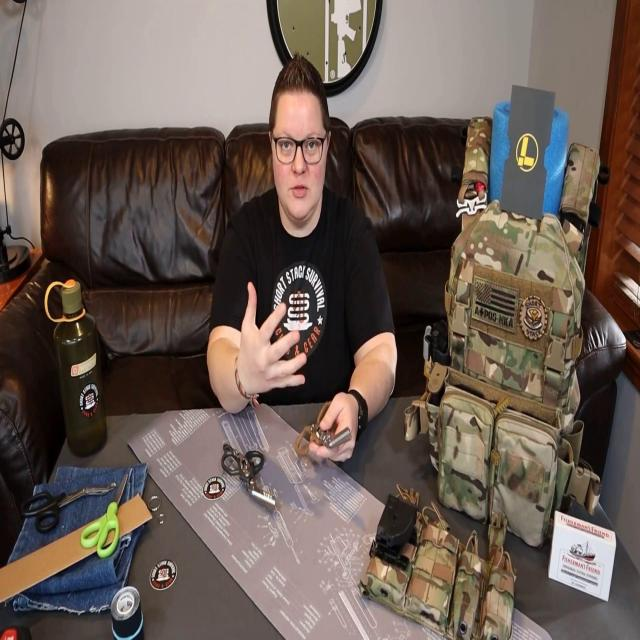scissor: (19, 479, 116, 533), (80, 470, 128, 558), (221, 442, 276, 513), (296, 399, 352, 456)
